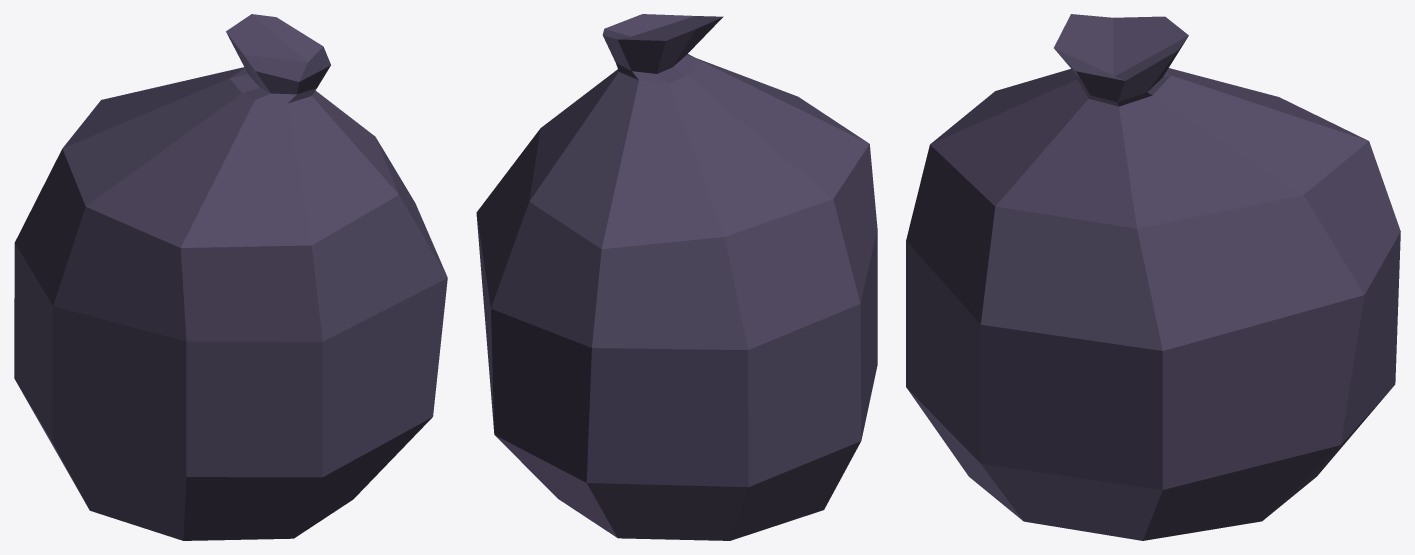
File: BINBAG.fbx
The picture shows the model from 3 angles, left to right: view 1: azimuth 30°, elevation 25°; view 2: azimuth 150°, elevation 25°; view 3: azimuth 270°, elevation 25°; orthographic projection. The views are drawn at different scales.
Parts seen in each view (by area): view 1: pCube2; view 2: pCube2; view 3: pCube2.
Boxes of the visible parts, x1,y1,x2,y2 form: pCube2: (14, 14, 447, 540); pCube2: (476, 14, 877, 540); pCube2: (906, 14, 1400, 540).
Size of the model in its own units: 1.44 by 1.61 by 1.53.
